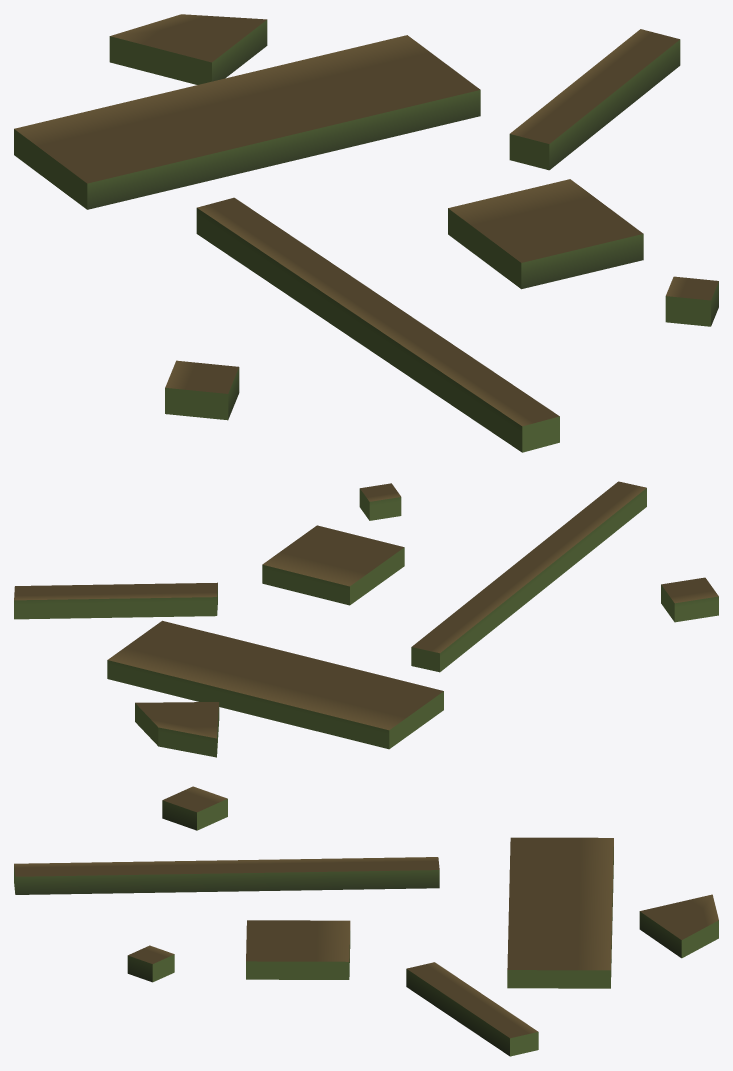
The model's file is SM_Env_Rubble_01.gltf.
3 views of the same model, one above another, from view 1: azimuth 30°, elevation 25°; view 2: azimuth 150°, elevation 25°; view 3: azimuth 270°, elevation 25° (orthographic). The views are drawn at different scales.
Parts seen in each view (by area): view 1: SM_Env_Rubble_01; view 2: SM_Env_Rubble_01; view 3: SM_Env_Rubble_01.
Part boxes in pixels (box(x1,y1,x2,y2)): SM_Env_Rubble_01: box(14, 14, 718, 452); SM_Env_Rubble_01: box(14, 481, 718, 757); SM_Env_Rubble_01: box(14, 786, 718, 1056).
Size of the model in its own units: 7.86 by 0.2654 by 9.29.
1 material, 1 textured.
